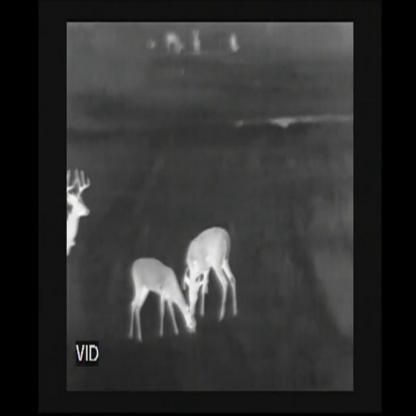rehkitze: (184, 216, 244, 327), (127, 256, 198, 345), (67, 161, 92, 263)
